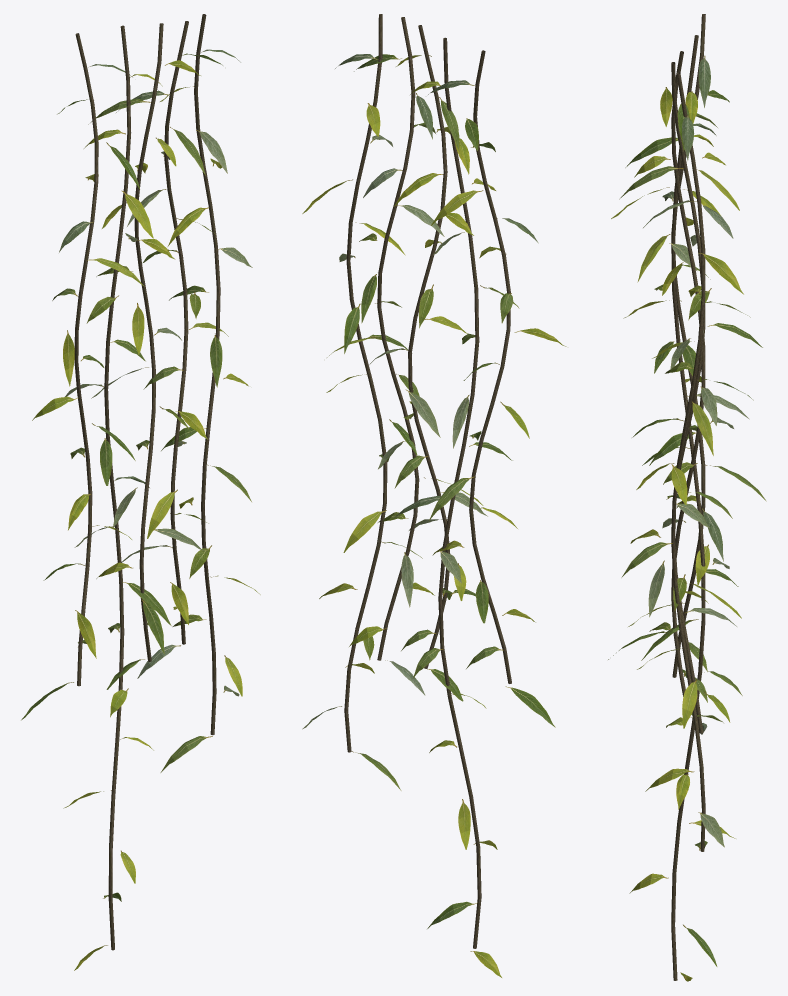
Rendered from vine_01.glb.
3 views of the same model, side by side, from view 1: azimuth 30°, elevation 25°; view 2: azimuth 150°, elevation 25°; view 3: azimuth 270°, elevation 25° (orthographic). The views are drawn at different scales.
Parts seen in each view (by area): view 1: vine_01; view 2: vine_01; view 3: vine_01.
Boxes of the visible parts, bbox=[...] form: vine_01: bbox=[21, 14, 260, 970]; vine_01: bbox=[302, 14, 566, 977]; vine_01: bbox=[608, 14, 766, 981].
Bounding box in the file's own units: 1.73 × 6.28 × 0.9964.
Materials: 2 (2 with a texture image).
